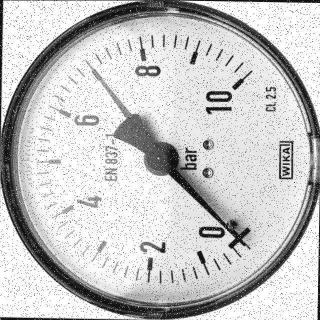gauge: (0, 0, 320, 315), (218, 218, 254, 254), (142, 142, 180, 176), (218, 72, 252, 103), (80, 56, 94, 70), (236, 236, 249, 250)
